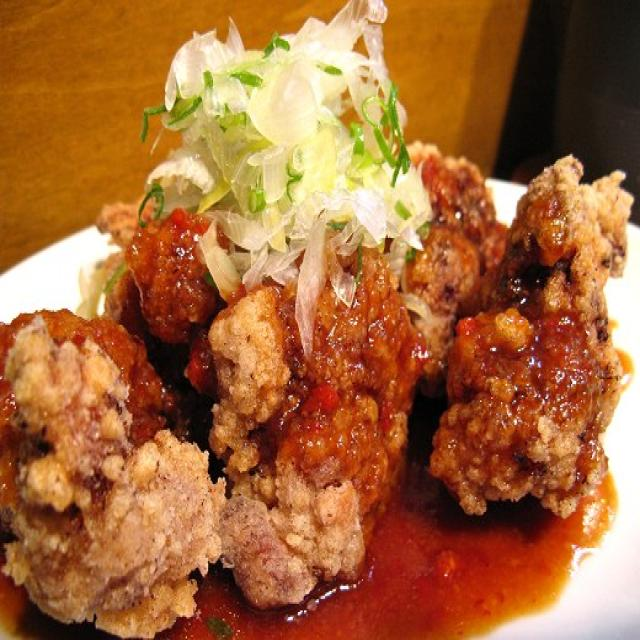鸡肉料理 含炸鸡: (10, 185, 640, 602)
